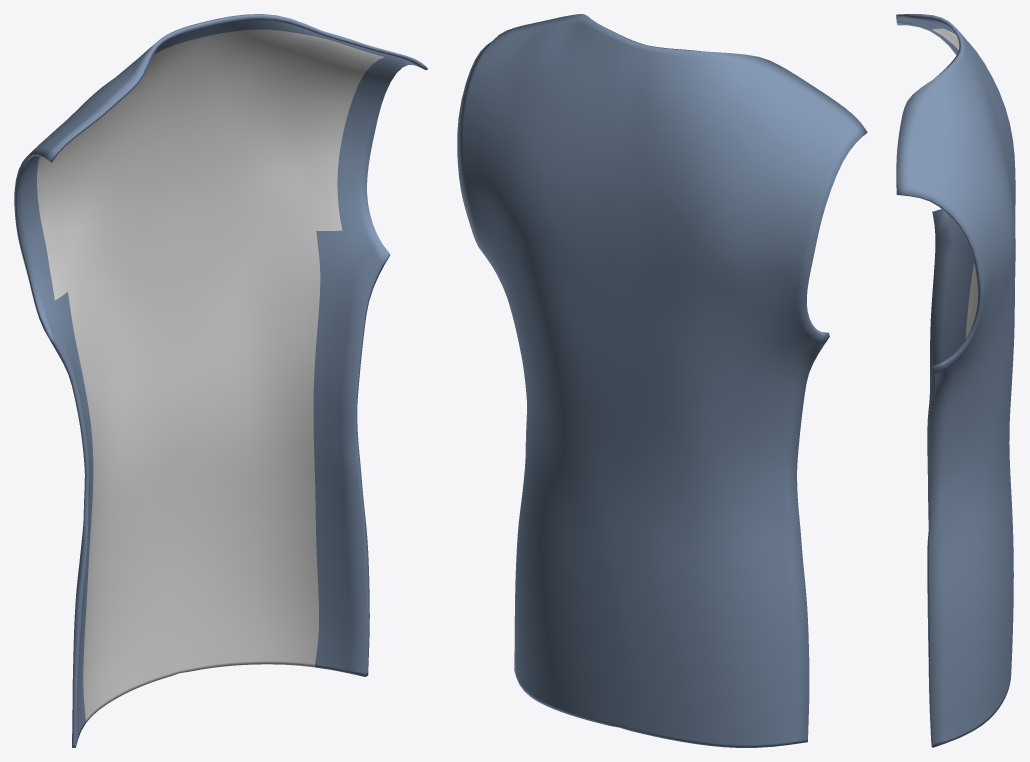
The model's file is SM_CarlosSA_Jacket_BackVent_None.fbx.
The picture shows the model from 3 angles, left to right: view 1: azimuth 30°, elevation 25°; view 2: azimuth 150°, elevation 25°; view 3: azimuth 270°, elevation 25°; orthographic projection. The views are drawn at different scales.
Parts seen in each view (by area): view 1: SM_CarlosSA_Jacket_BackVent_None; view 2: SM_CarlosSA_Jacket_BackVent_None; view 3: SM_CarlosSA_Jacket_BackVent_None.
Part boxes in pixels (x1=…): SM_CarlosSA_Jacket_BackVent_None: x1=14, y1=14, x2=427, y2=747; SM_CarlosSA_Jacket_BackVent_None: x1=457, y1=14, x2=867, y2=747; SM_CarlosSA_Jacket_BackVent_None: x1=896, y1=14, x2=1015, y2=747.
Bounding box in the file's own units: 0.4349 × 0.7451 × 0.1266.
